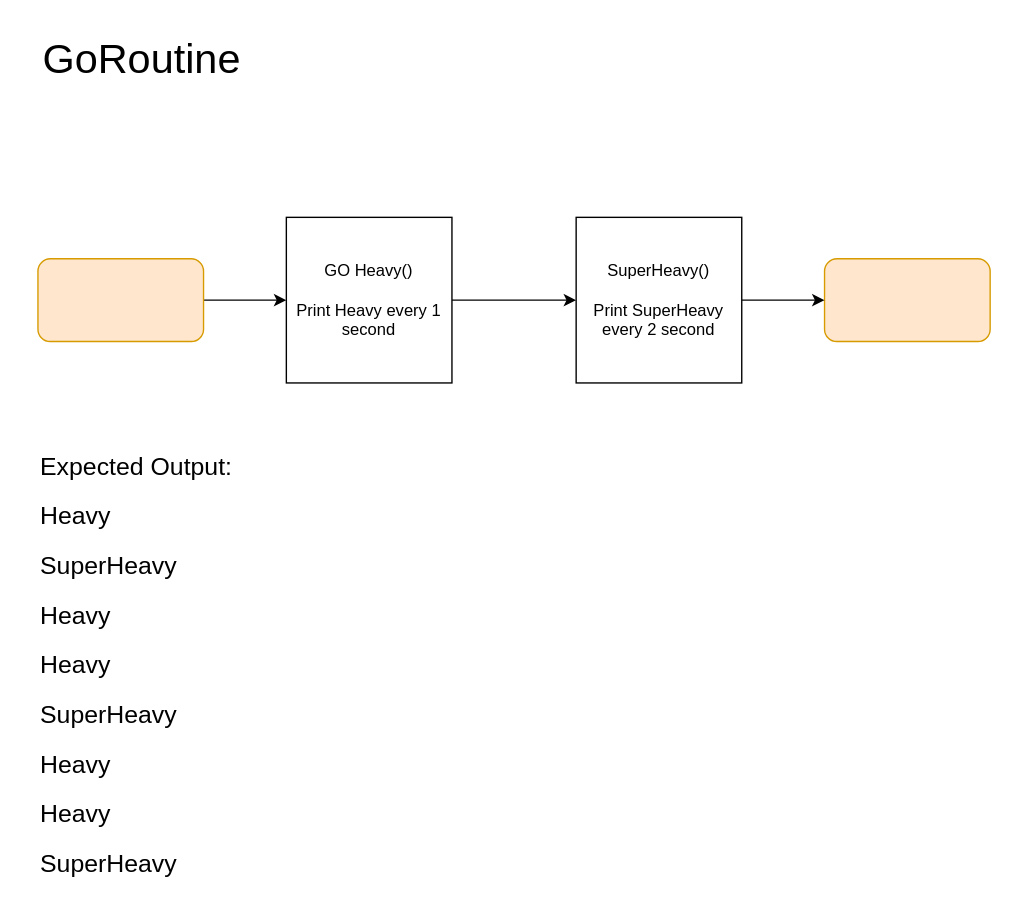
Image size: 1014x916. Some labels were removed from this diagram. Each missing label, with the centre of its shape:
"End" goes at pixel 906 299.
"Start" goes at pixel 120 299.
